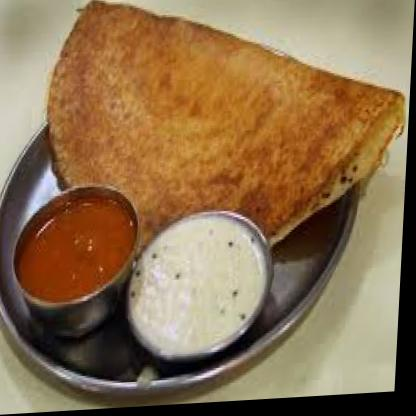dosa: (43, 0, 412, 267)
